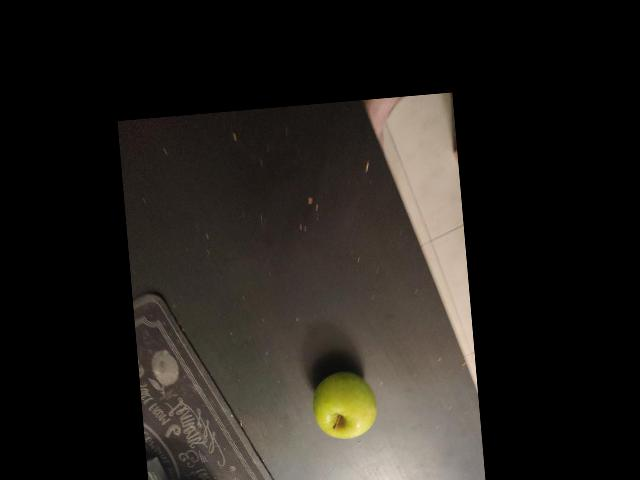apple: (301, 361, 379, 445)
